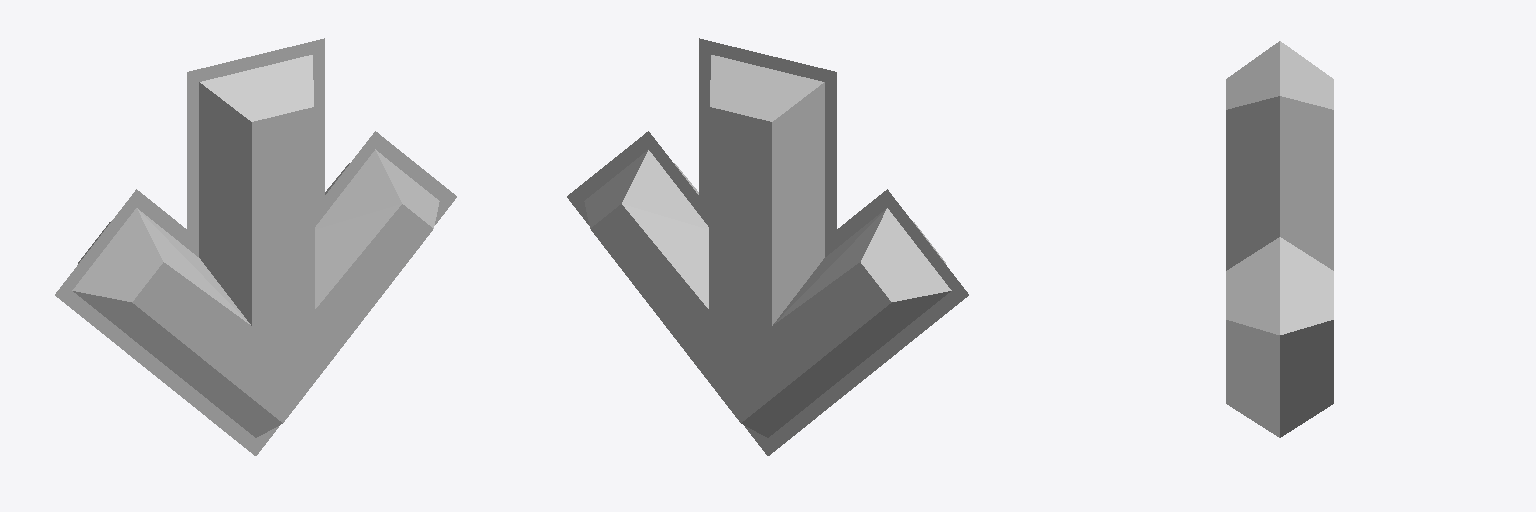
Rendered from arrow.obj.
The picture shows the model from 3 angles: view 1: azimuth 30°, elevation 25°; view 2: azimuth 150°, elevation 25°; view 3: azimuth 270°, elevation 25°; orthographic projection.
Parts seen in each view (by area): view 1: 4th.002; view 2: 4th.002; view 3: 4th.002.
Boxes of the visible parts, box(x1,y1,x2,y2) form: 4th.002: box(55, 38, 456, 455); 4th.002: box(567, 38, 968, 455); 4th.002: box(1226, 41, 1333, 437).
Bounding box in the file's own units: 64.14 × 61.07 × 14.93.